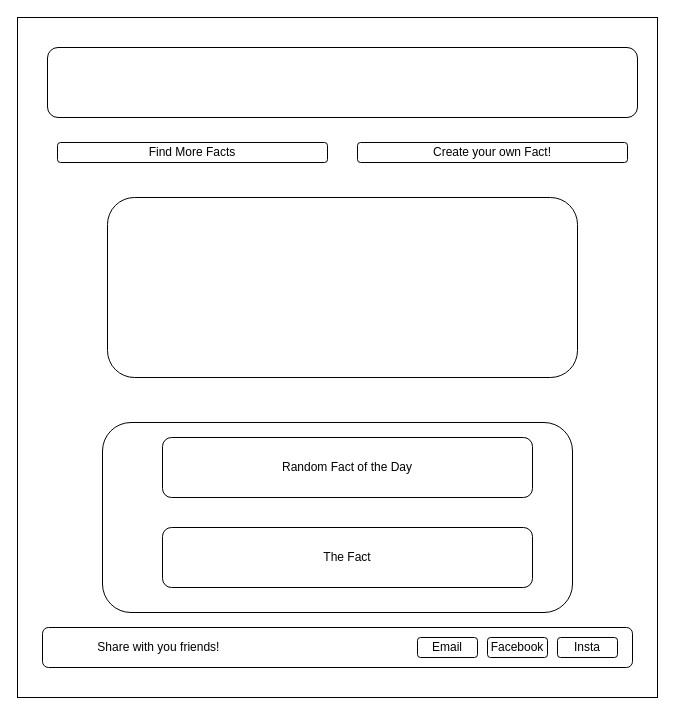
This 675x715 diagram has some shape labels left out. Each missing label, with the centre of its shape:
"About/Hero" goes at [342,287].
"Random Facts! (TITLE)" goes at [342,82].
